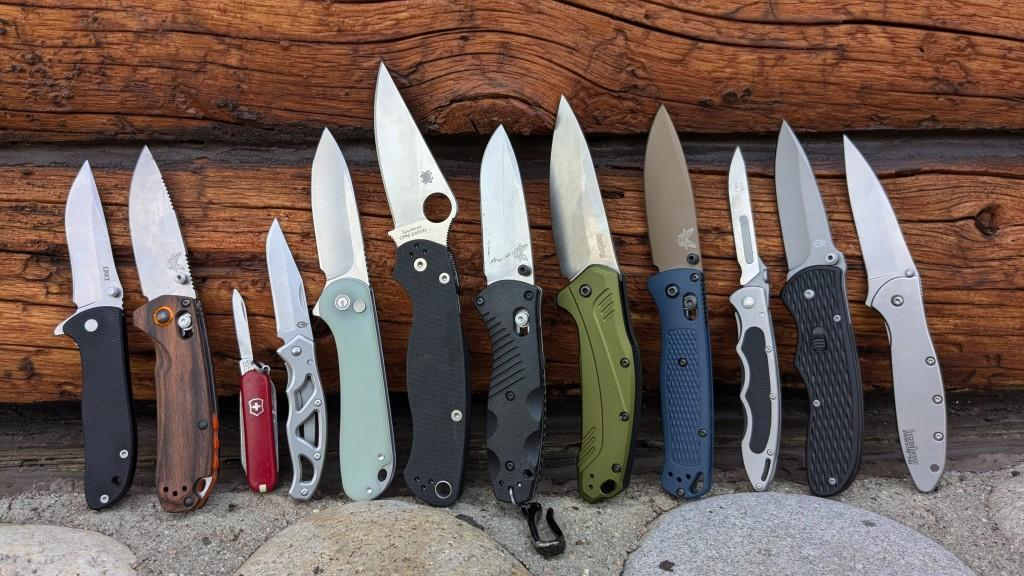Knife: (373, 60, 467, 505), (842, 135, 948, 498), (550, 96, 639, 506), (771, 121, 864, 495), (128, 145, 219, 515), (310, 126, 395, 499), (59, 158, 140, 508), (643, 105, 713, 498), (473, 122, 544, 507), (729, 147, 784, 491), (265, 218, 328, 504), (232, 289, 278, 495)
